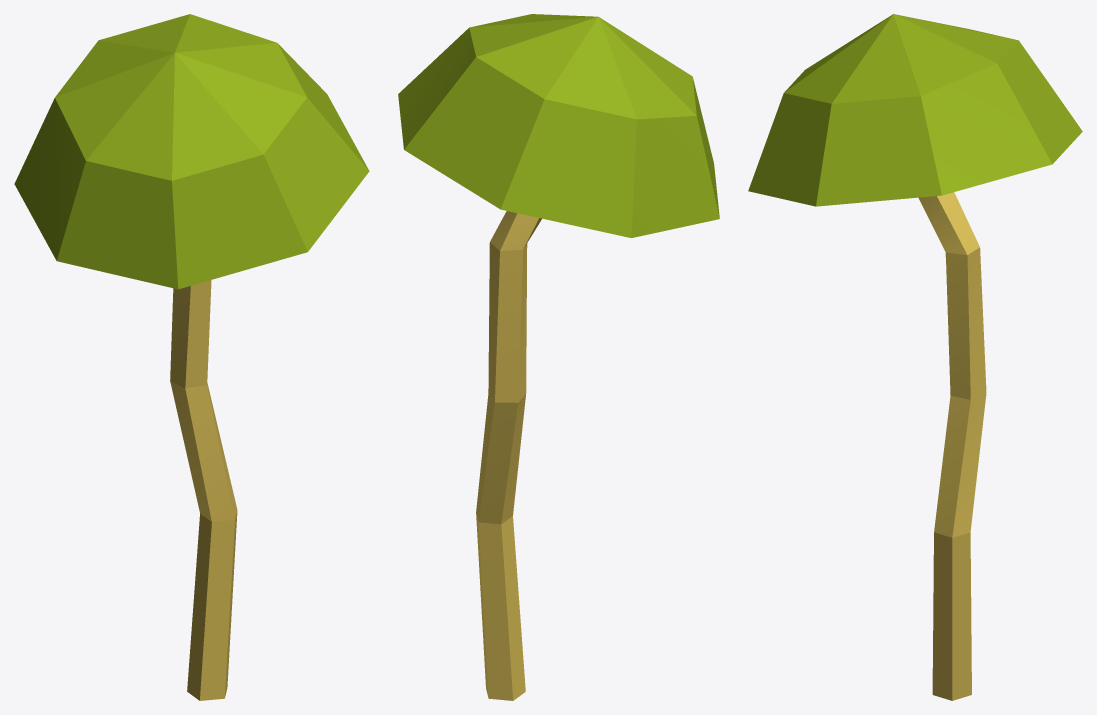
The model's file is Mushroom_g_a_03.fbx.
3 views of the same model, side by side, from view 1: azimuth 30°, elevation 25°; view 2: azimuth 150°, elevation 25°; view 3: azimuth 270°, elevation 25° (orthographic). The views are drawn at different scales.
Visible parts, largest first — view 1: Mushroom_g_a_03_LOD0; view 2: Mushroom_g_a_03_LOD0; view 3: Mushroom_g_a_03_LOD0.
Part boxes in pixels (<box>): Mushroom_g_a_03_LOD0: <box>14,14,369,700</box>; Mushroom_g_a_03_LOD0: <box>398,14,719,700</box>; Mushroom_g_a_03_LOD0: <box>748,14,1082,700</box>.
Size of what is drawn, in the model's own units: 3.29 by 7.15 by 3.35.
